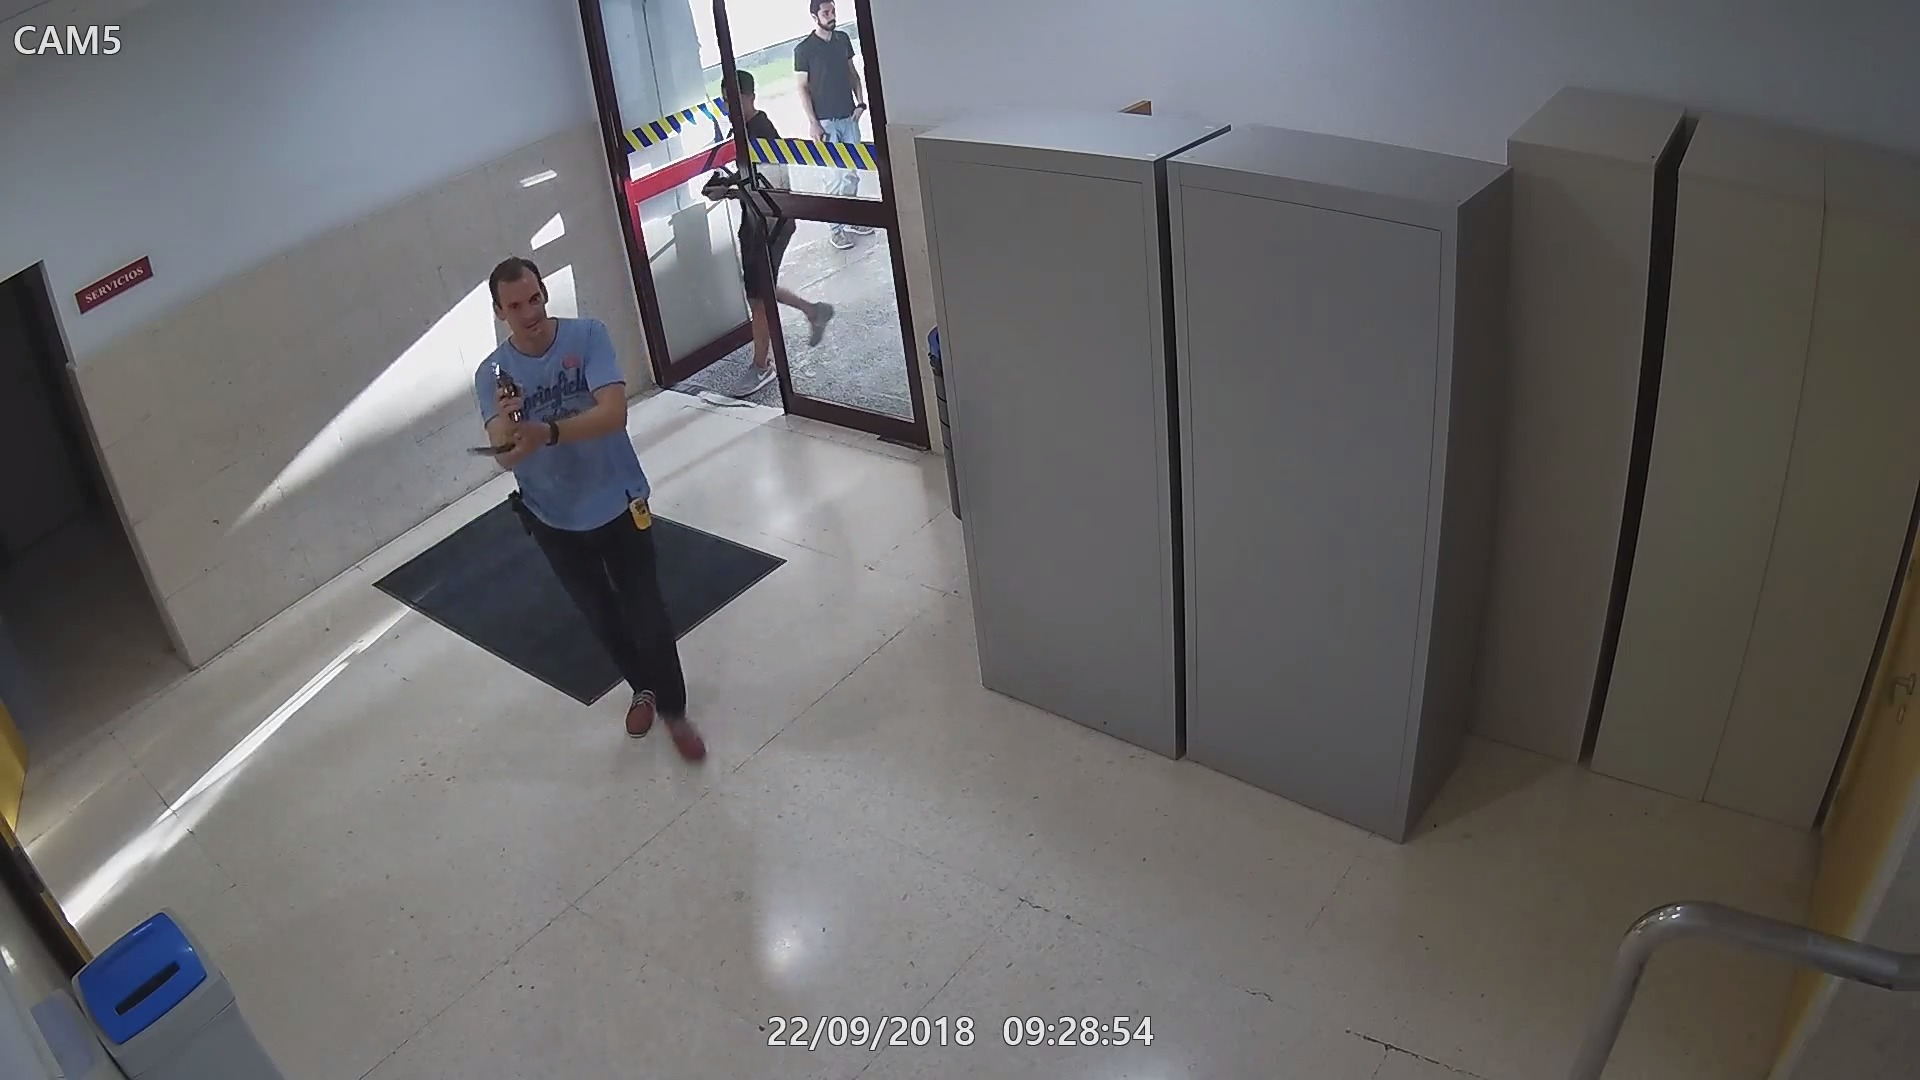Handgun: (485, 355, 535, 421), (695, 167, 731, 203)
Knife: (462, 419, 554, 469)
